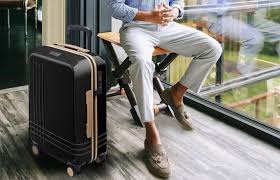suitcase: (27, 25, 110, 168)
